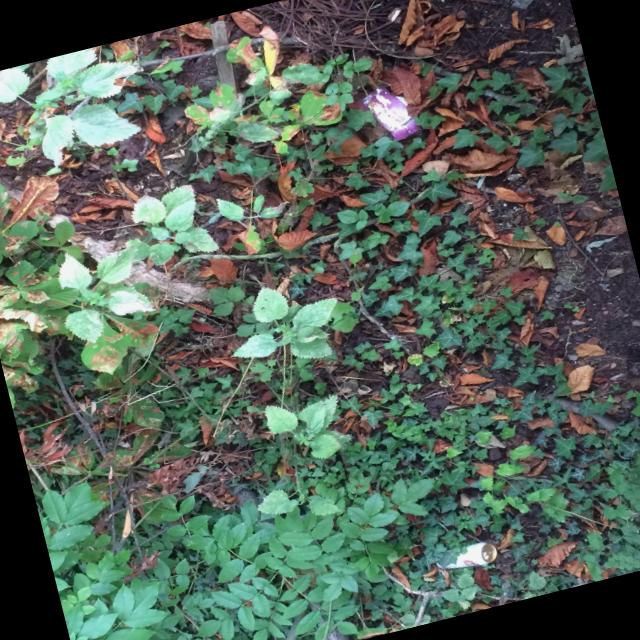Drink can: (436, 542, 498, 569)
Other plastic: (357, 86, 419, 140)
